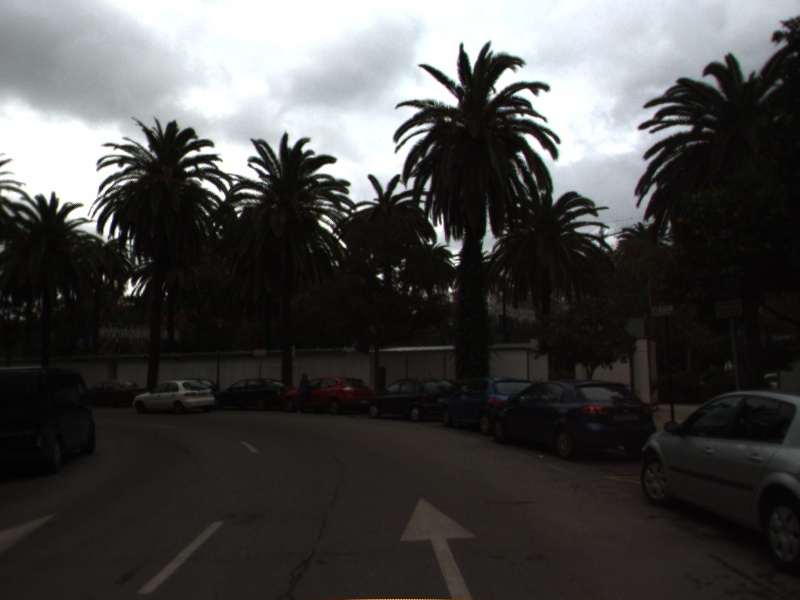STRAIGHT: (395, 491, 482, 600)
